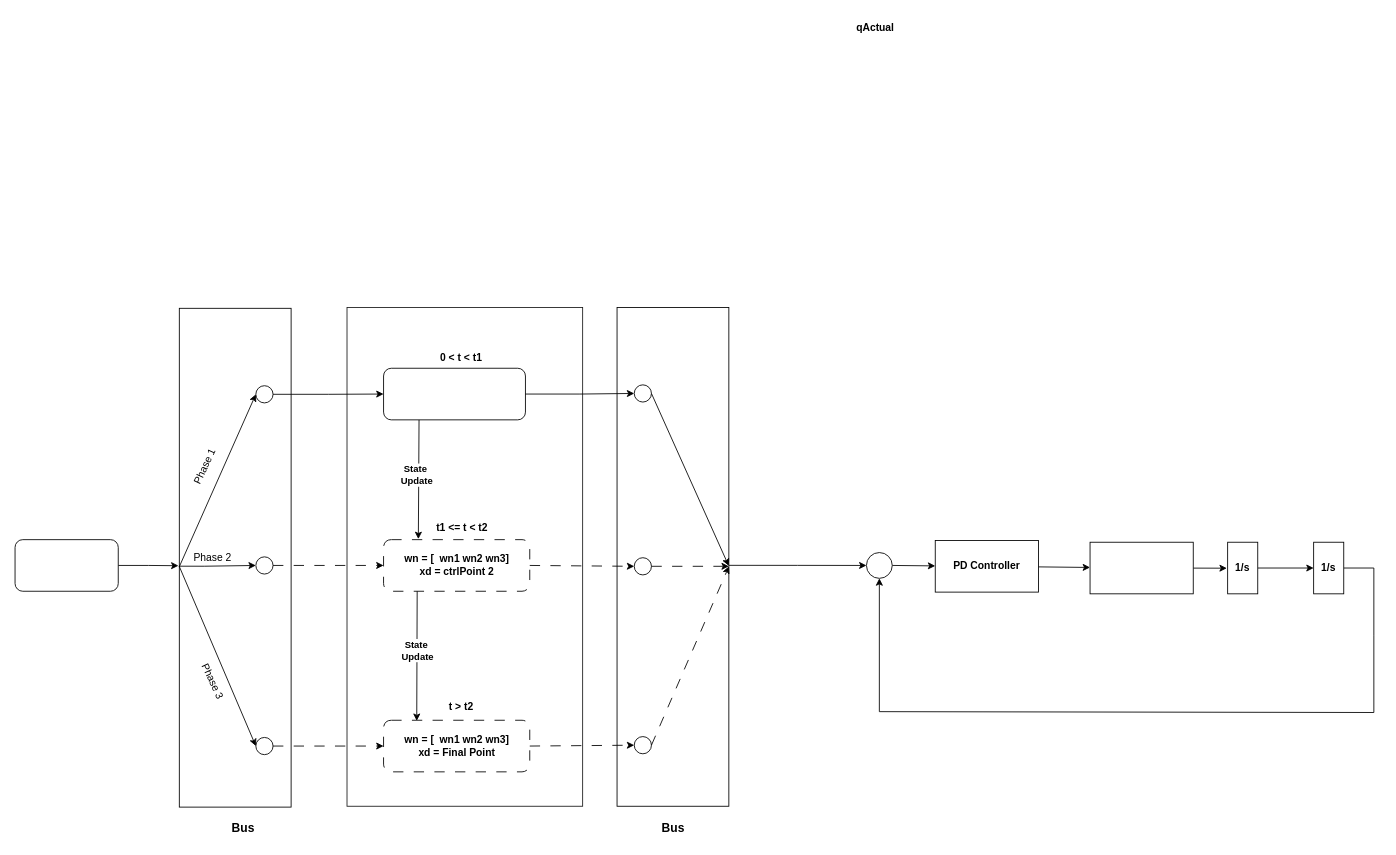
Some shapes in this 1396 by 855 pixel diagram are drawn without their labels. The shapes that lost their labels are listed below. From the top down, each one's centre as x and y in pixels, then its label:
At point (454, 393): "wn = [ wn1 wn2 wn3] xd = ctrlPoint1".
At point (66, 565): "Final point".
At point (1141, 567): "Plant".
